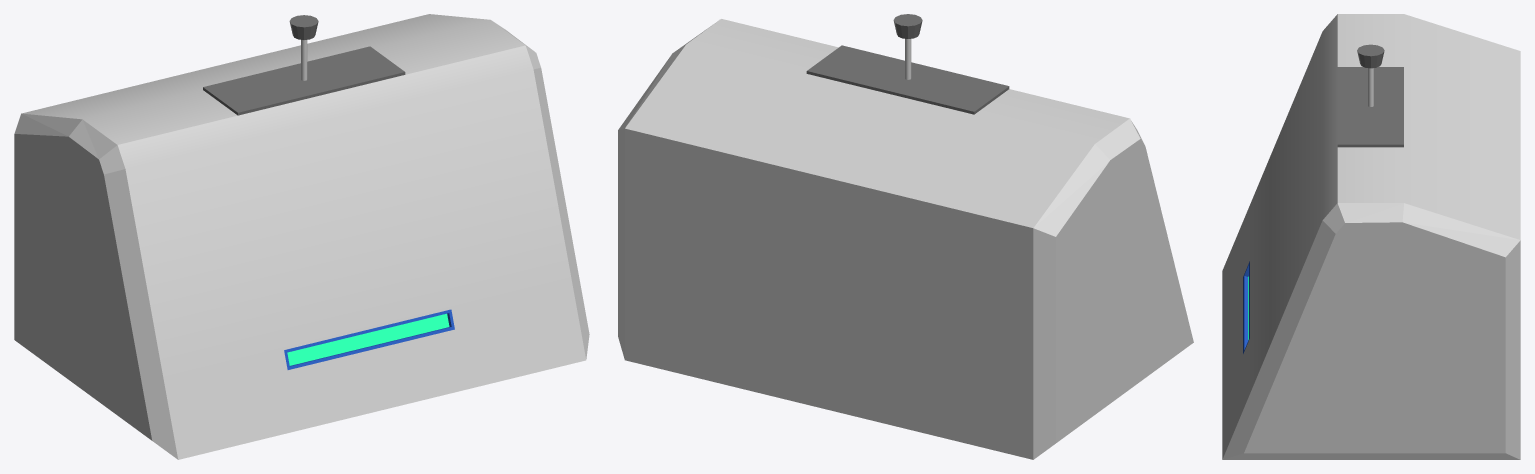
The model's file is fpir.glb.
The picture shows the model from 3 angles, left to right: view 1: azimuth 30°, elevation 25°; view 2: azimuth 150°, elevation 25°; view 3: azimuth 270°, elevation 25°; orthographic projection. The views are drawn at different scales.
Visible parts, largest first — view 1: fpir; view 2: fpir; view 3: fpir.
Part boxes in pixels (bbox=[...]): fpir: bbox=[14, 14, 589, 459]; fpir: bbox=[618, 14, 1193, 459]; fpir: bbox=[1222, 14, 1520, 459].
Bounding box in the file's own units: 0.3215 × 0.237 × 0.2.
